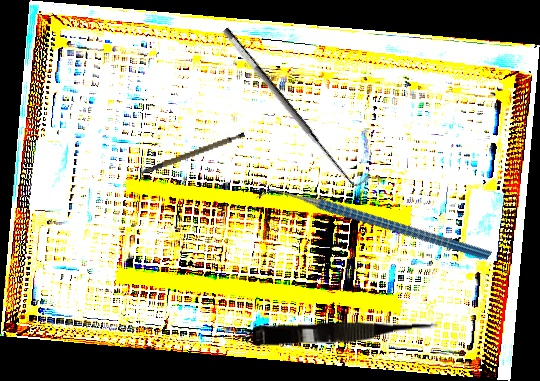Chopper: (254, 120, 493, 332)
Hook Surgical: (219, 16, 371, 195)
Micro Scissor: (252, 316, 439, 350)
Scalpel Handle: (136, 130, 248, 175)
